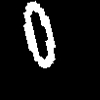chain: (24, 1, 54, 67)
